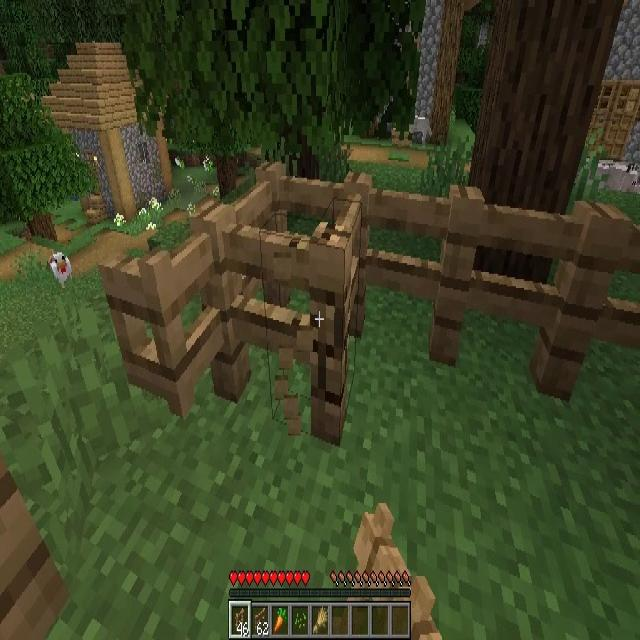duck: (49, 252, 72, 287)
